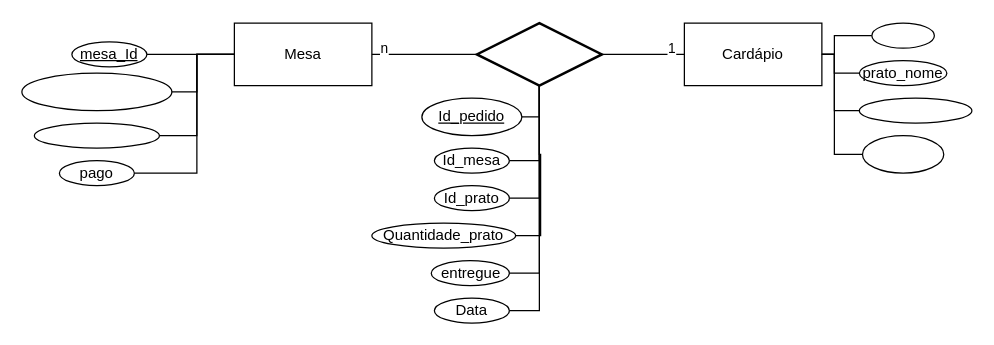
The diagram is 994 pixels wide and 345 high, and some of its shapes have lost their labels. The shapes that lost their labels are listed below. From the top down, each one's centre as x and y in pixels, then its label:
[538,53]: pedidos
[902,35]: prato_Id
[96,91]: números_integrantes
[915,110]: prato_categora
[96,135]: consumo_total
[902,153]: prato_tipo
